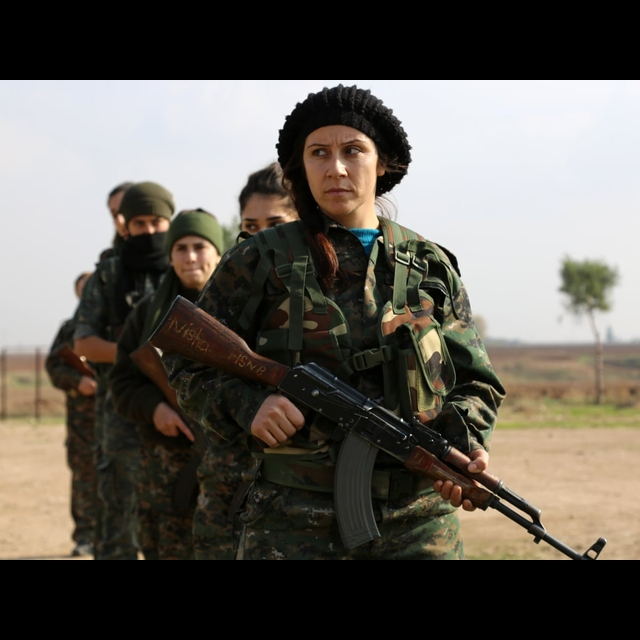AK47: (265, 363, 600, 561)
